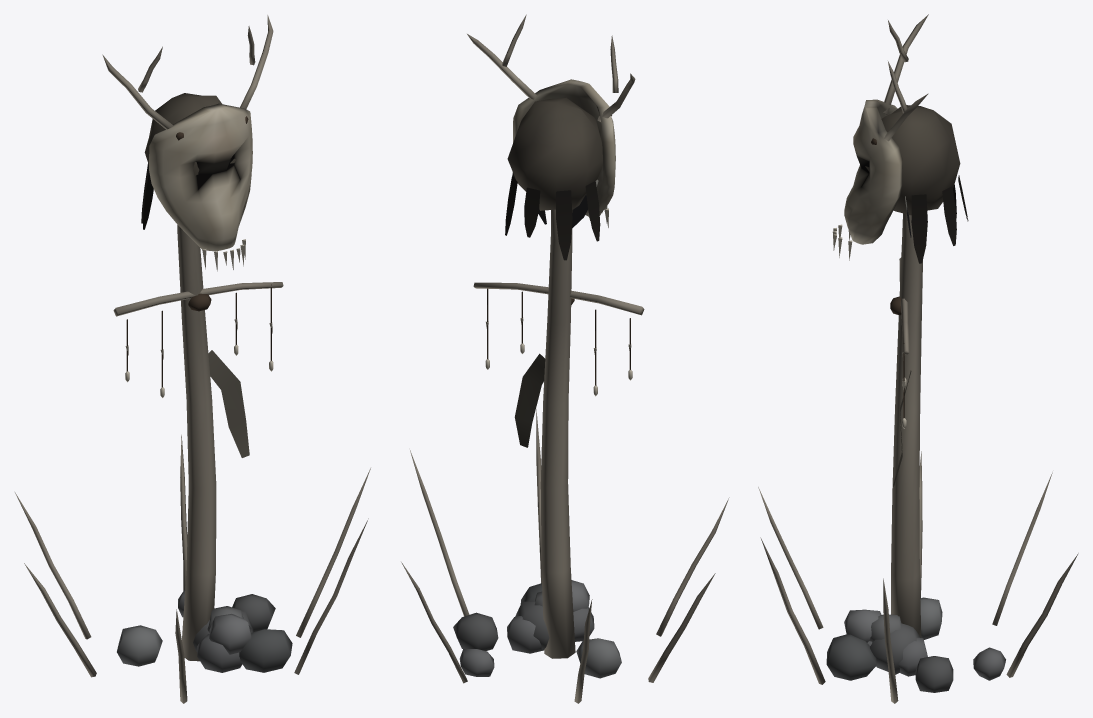
File: totem_lo.glb
3 views of the same model, side by side, from view 1: azimuth 30°, elevation 25°; view 2: azimuth 150°, elevation 25°; view 3: azimuth 270°, elevation 25° (orthographic).
Parts seen in each view (by area): view 1: totem; view 2: totem; view 3: totem.
Part boxes in pixels (x1=…): totem: x1=15, y1=15, x2=370, y2=703; totem: x1=401, y1=14, x2=729, y2=703; totem: x1=758, y1=14, x2=1078, y2=703.
Size of the model in its own units: 1.69 by 3.11 by 1.46.
